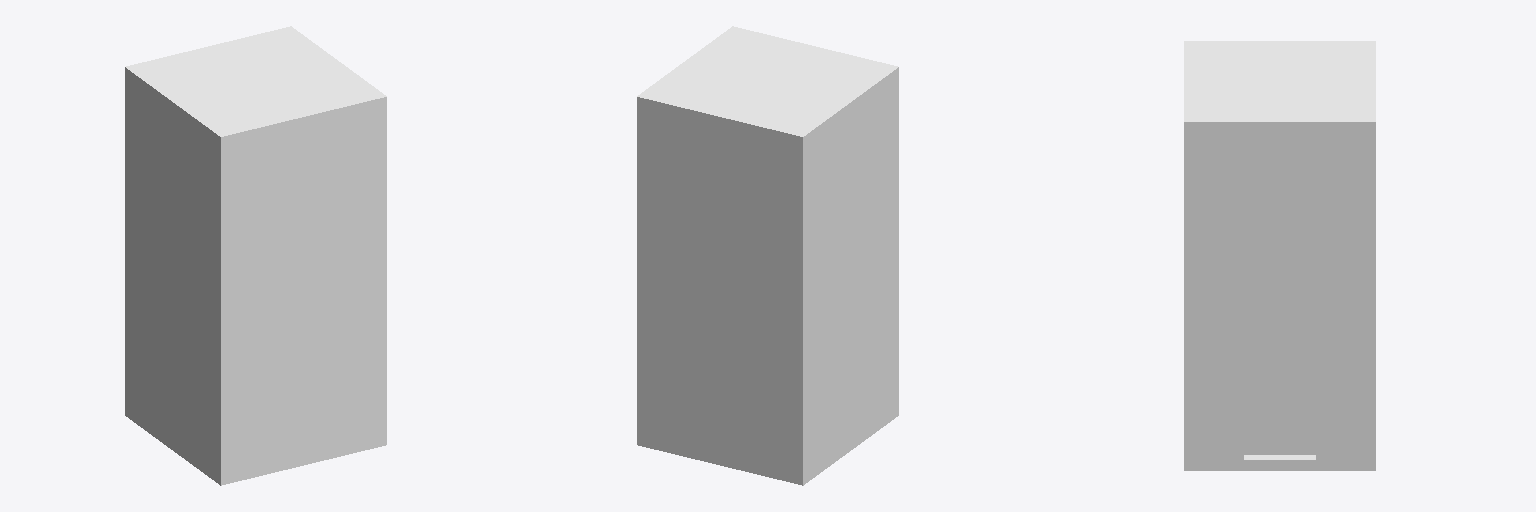
The model's file is Mountain_river_7.obj.
3 renders of one model, left to right at view 1: azimuth 30°, elevation 25°; view 2: azimuth 150°, elevation 25°; view 3: azimuth 270°, elevation 25°, orthographic.
Visible parts, largest first — view 1: object 1; view 2: object 1; view 3: object 1.
Part boxes in pixels (x1,y1,x2,y2): object 1: (125, 26, 386, 485); object 1: (637, 26, 898, 485); object 1: (1184, 41, 1375, 470).
Bounding box in the file's own units: 1.6 × 3.2 × 1.6.